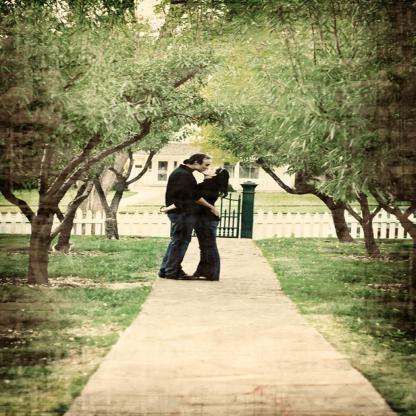face: (199, 158, 212, 173), (203, 167, 220, 177)
